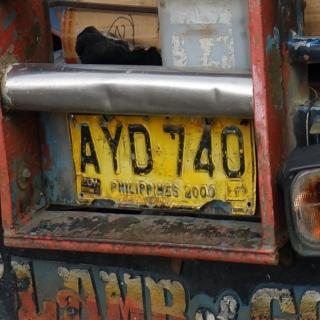license: (69, 114, 257, 216)
